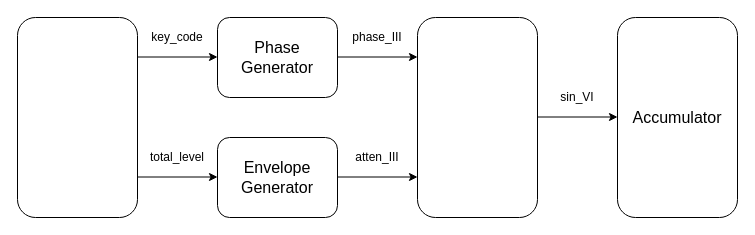
Some shapes in this 755 by 235 pixel diagram are drawn without their labels. The centre of each missing label's shape, as x and y in pixels:
"Calc Sine" goes at (x=477, y=117).
"Configurator" goes at (x=77, y=117).
